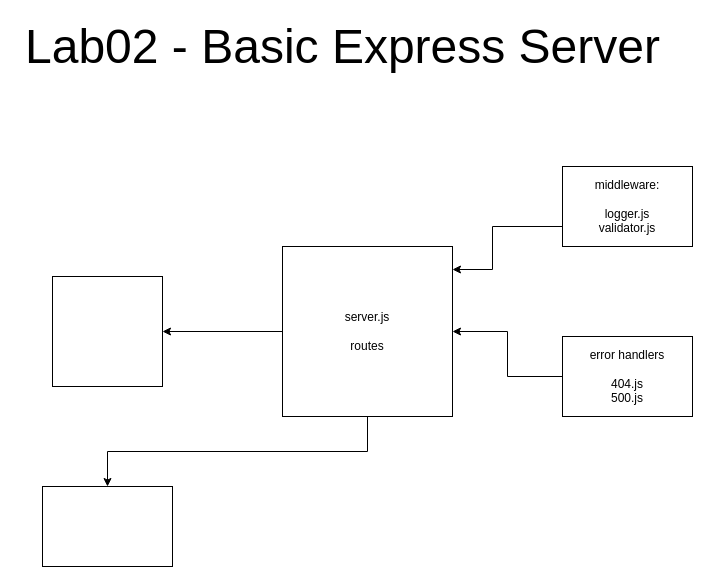
Some shapes in this 710 by 584 pixel diagram are drawn without their labels. Here are the shapes that lost their labels. From the top down, the centre of each, then its label:
(x=107, y=331): index.js
(x=107, y=526): __tests__ server.test.js
